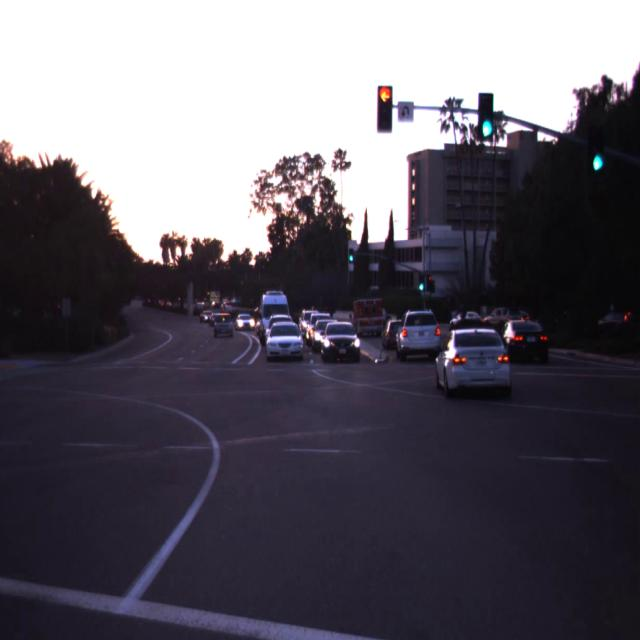kirmizi: (378, 85, 392, 133)
yesil: (478, 92, 494, 142)
